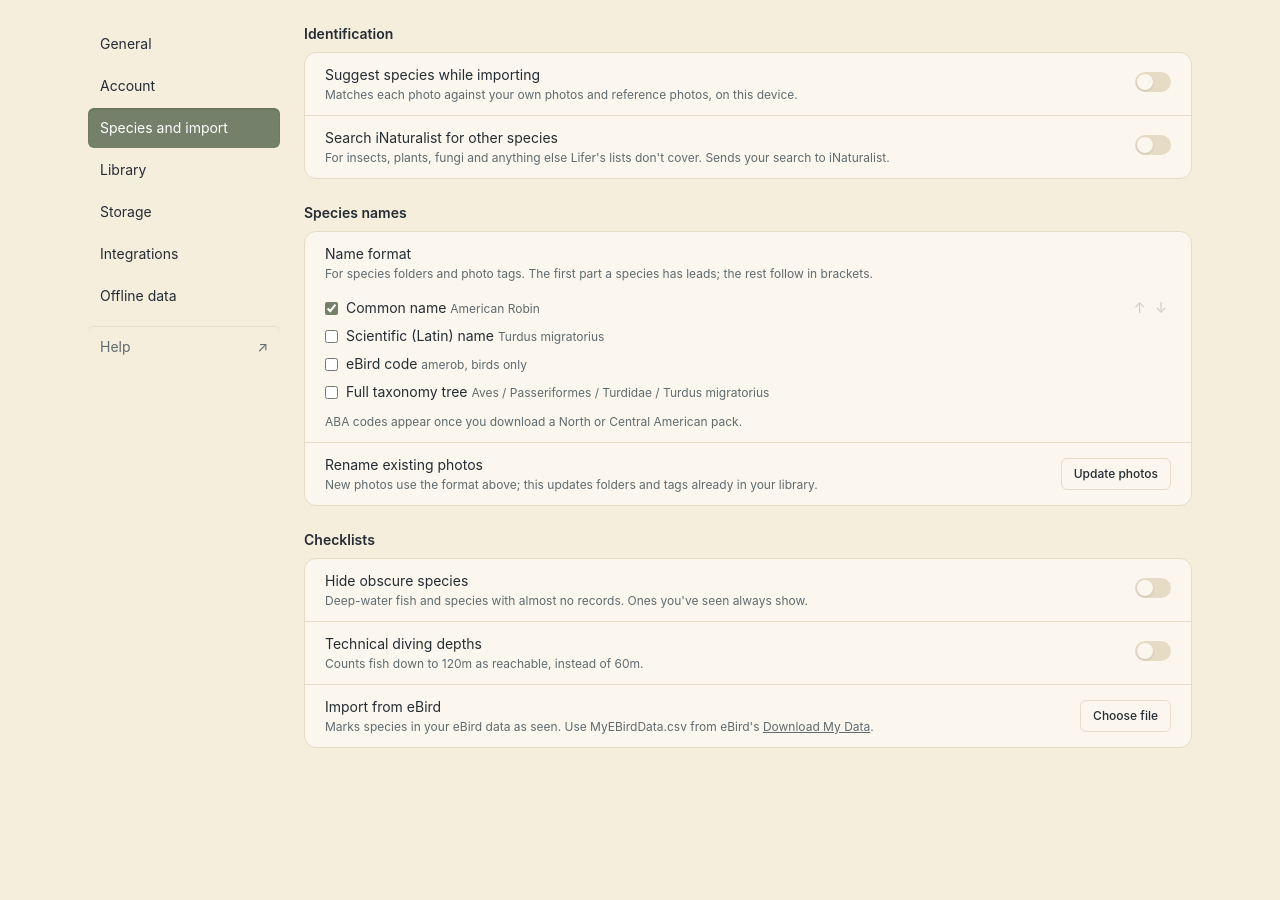
Scenario: SettingsPage › keeps a toggle unchanged and shows the error when saving fails
The width and height of the screenshot is (1280, 900).
Click the switch named "Technical diving depths". click: (1153, 651)
box: [1135,641,1171,661]
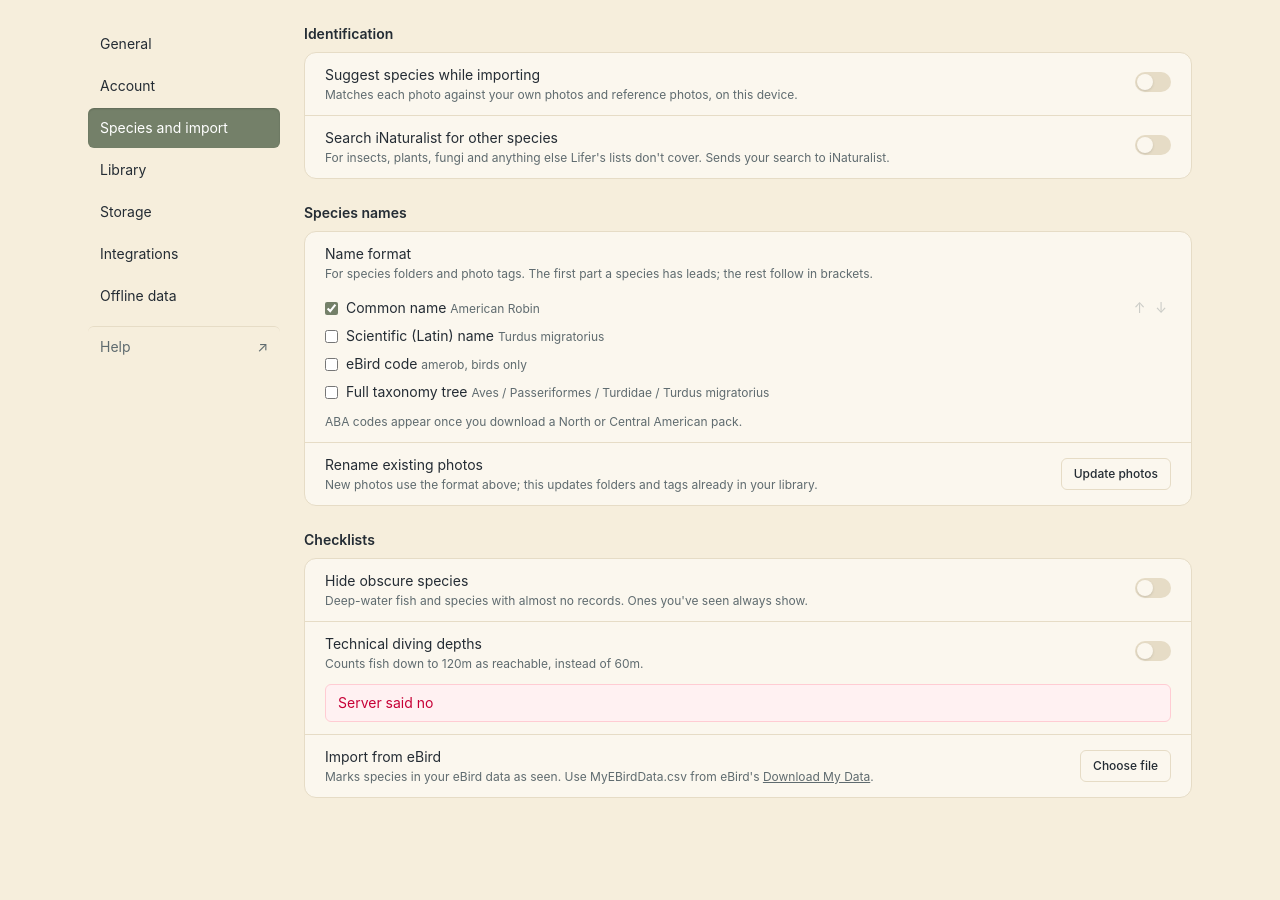
Check: the text "Server said no" is shown, box [325,684,1171,722]
